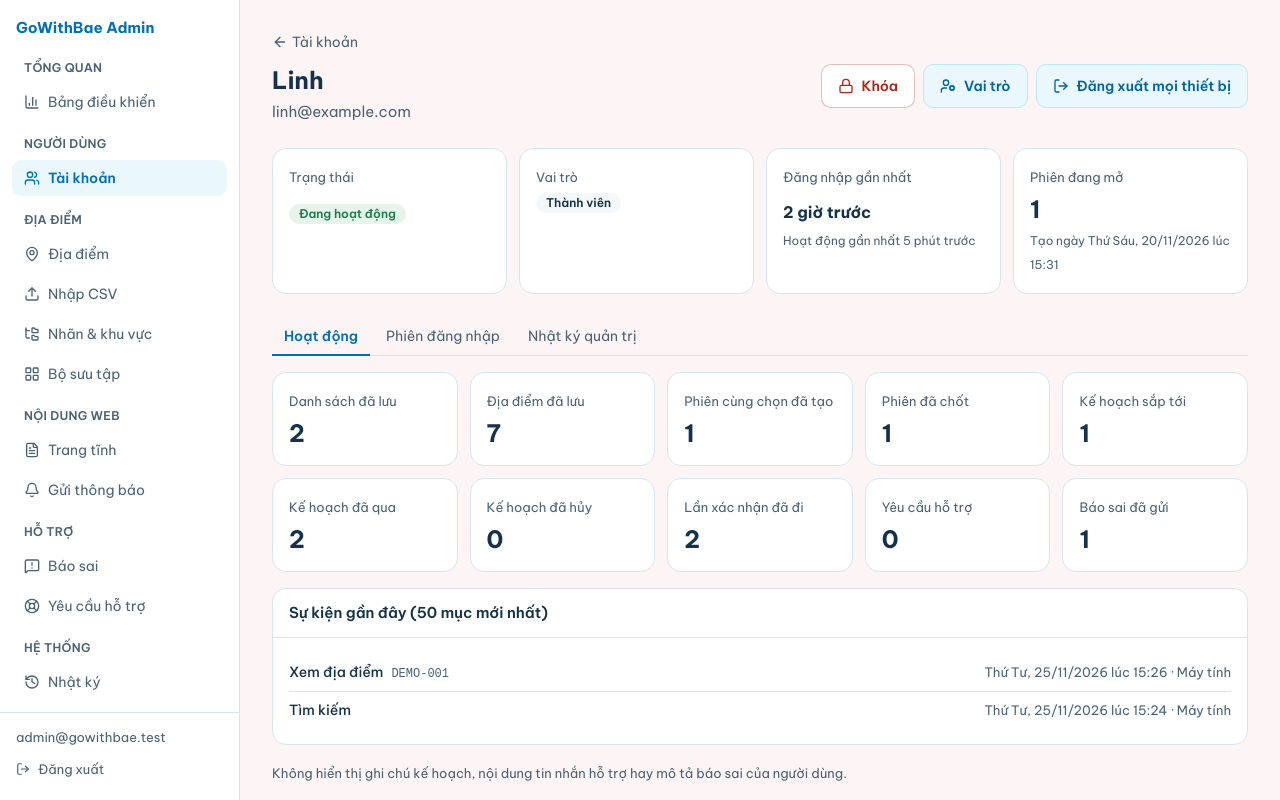
it: Quản trị tài khoản › khóa tài khoản cần lý do; xem phiên đăng nhập và nhật ký
expect the heading "Linh" is shown: met, box [272, 65, 324, 95]
expect the text "Địa điểm đã lưu" is shown: met, box [487, 393, 585, 409]
Click the button "Khóa": (868, 86) [821, 64, 915, 108]
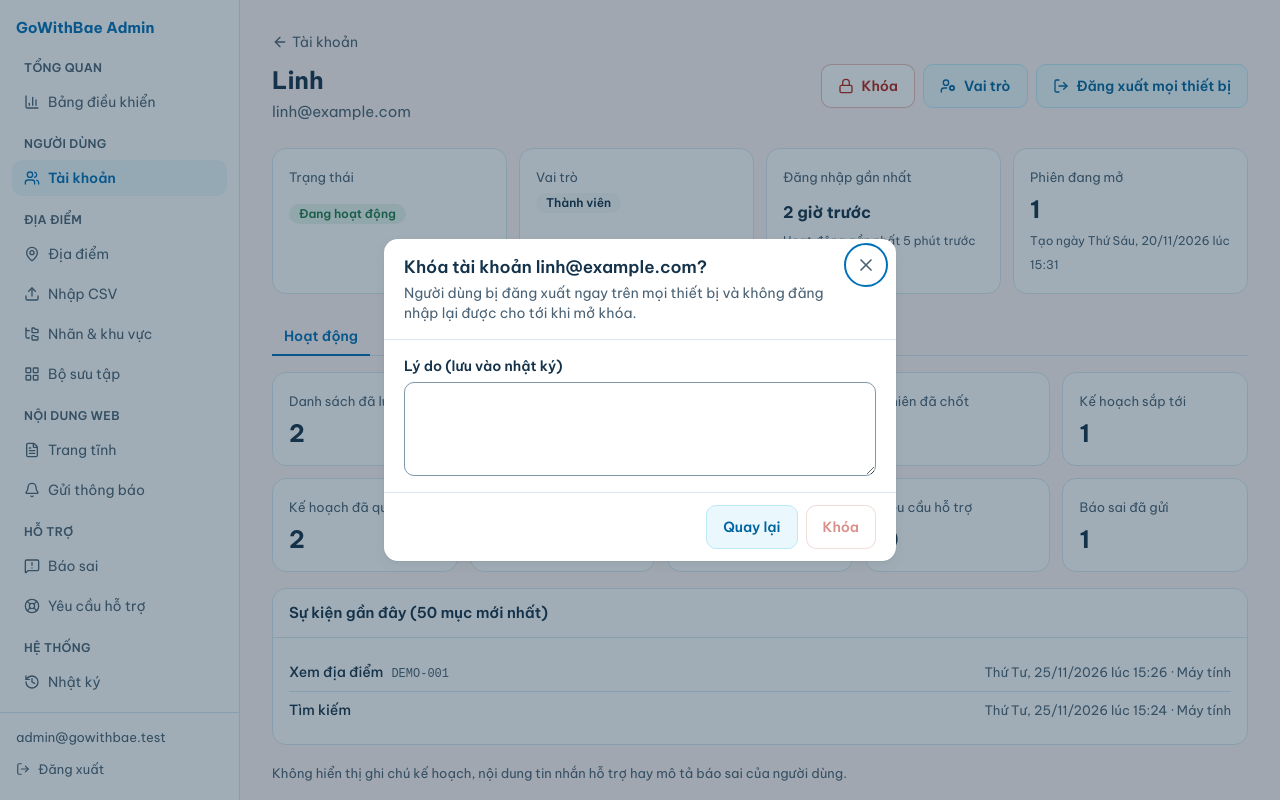
expect the button "Khóa" below "Lý do (lưu vào nhật ký)" is disabled: met, box [806, 505, 876, 549]
In the text box labelled "Lý do (lưu vào nhật ký)": (640, 429) [404, 382, 876, 476], type "Vi phạm điều khoản"
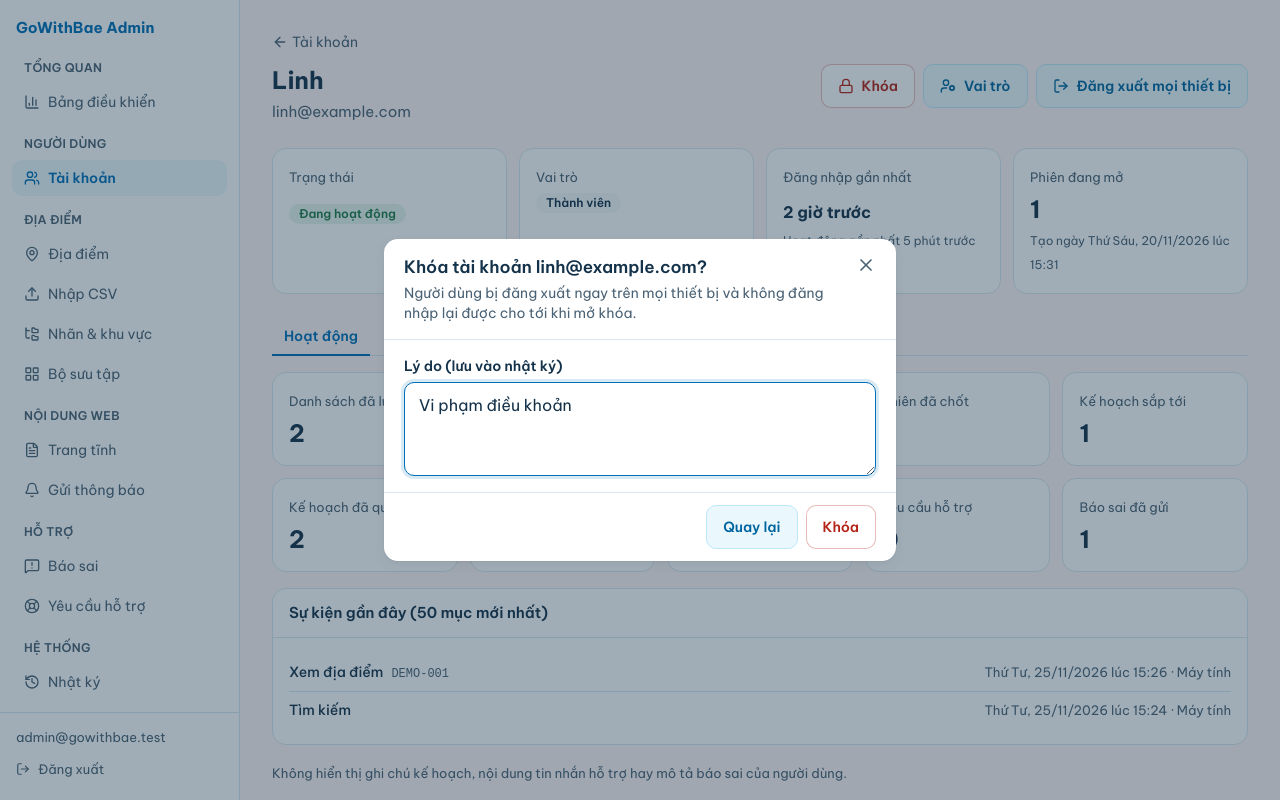
Click the button "Khóa" below "Lý do (lưu vào nhật ký)": (841, 527) [806, 505, 876, 549]
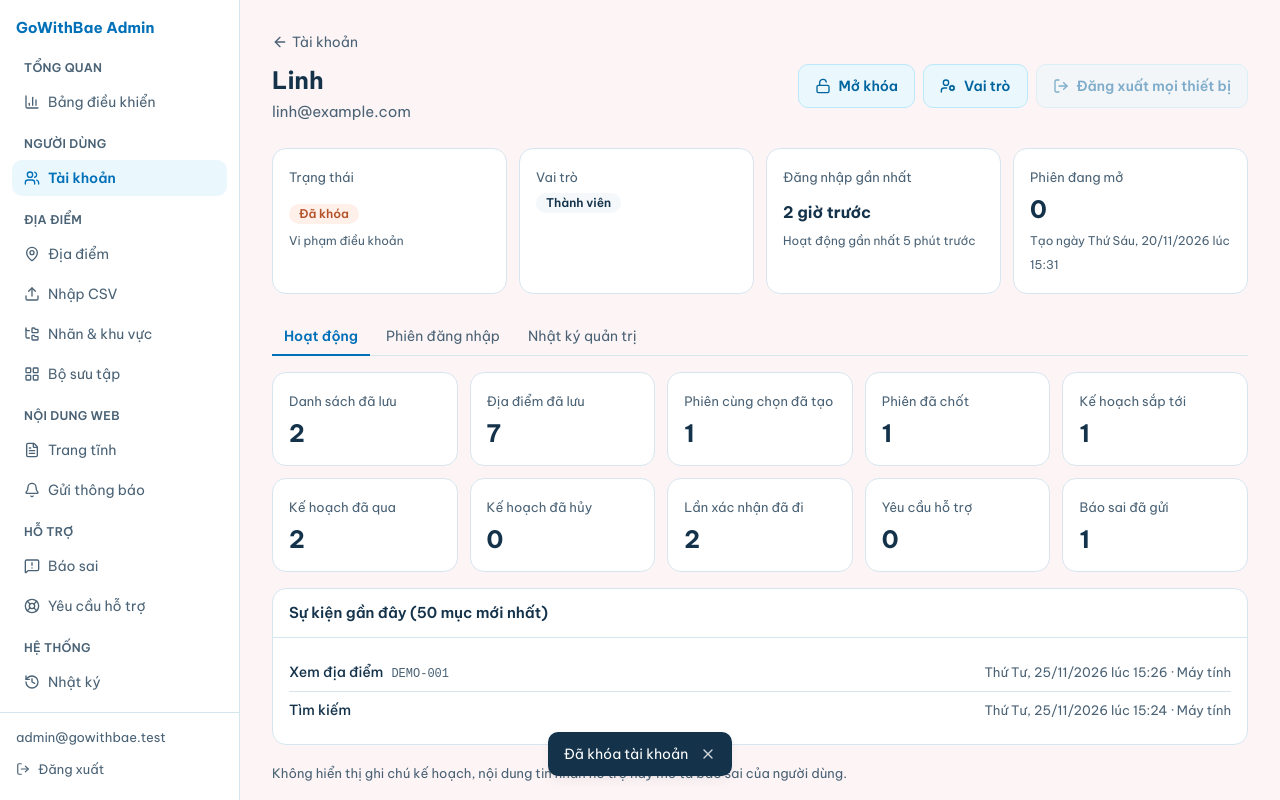
expect the button "Mở khóa" is shown: met, box [798, 64, 915, 108]
Click the tab "Phiên đăng nhập": (443, 337) [374, 318, 512, 356]
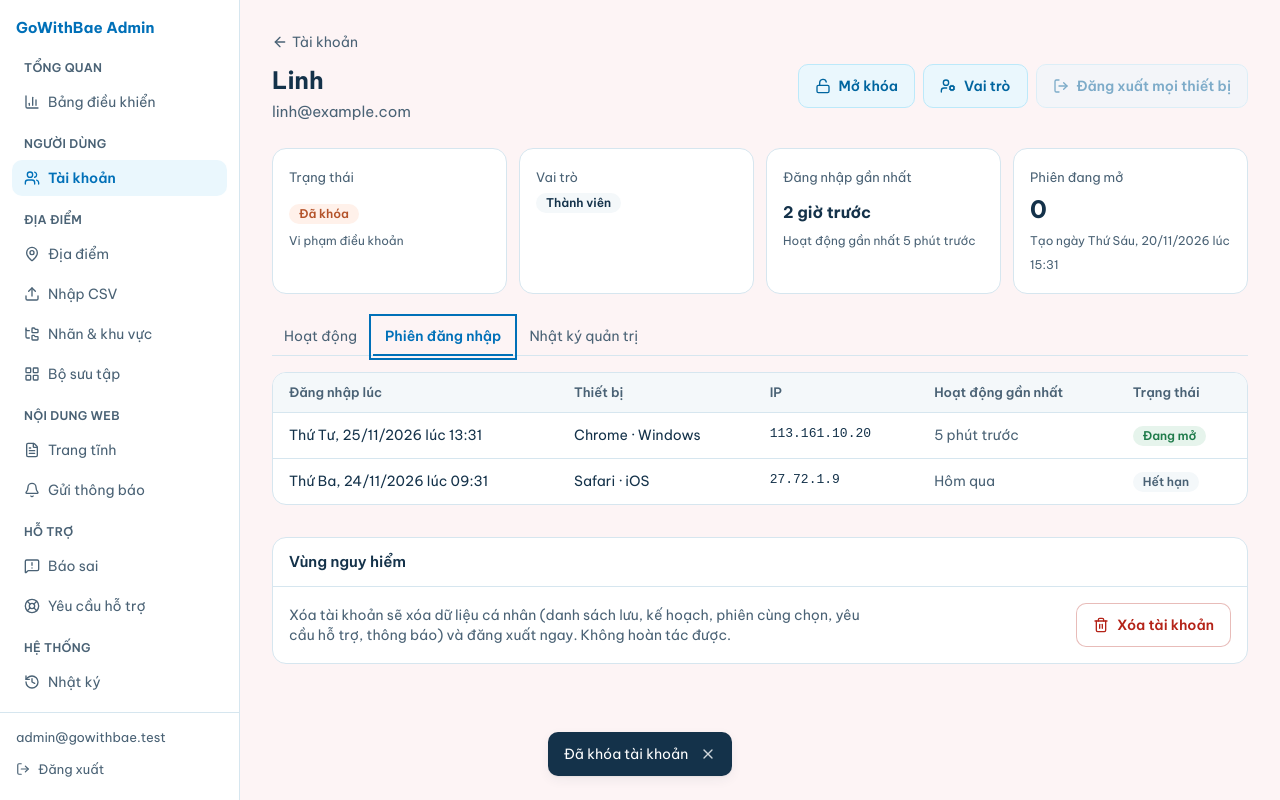
expect the text "113.161.10.20" is shown: met, box [754, 412, 918, 458]
expect the text "Chrome · Windows" is shown: met, box [558, 412, 754, 458]
Click the tab "Nhật ký quản trị": (584, 337) [517, 318, 650, 356]
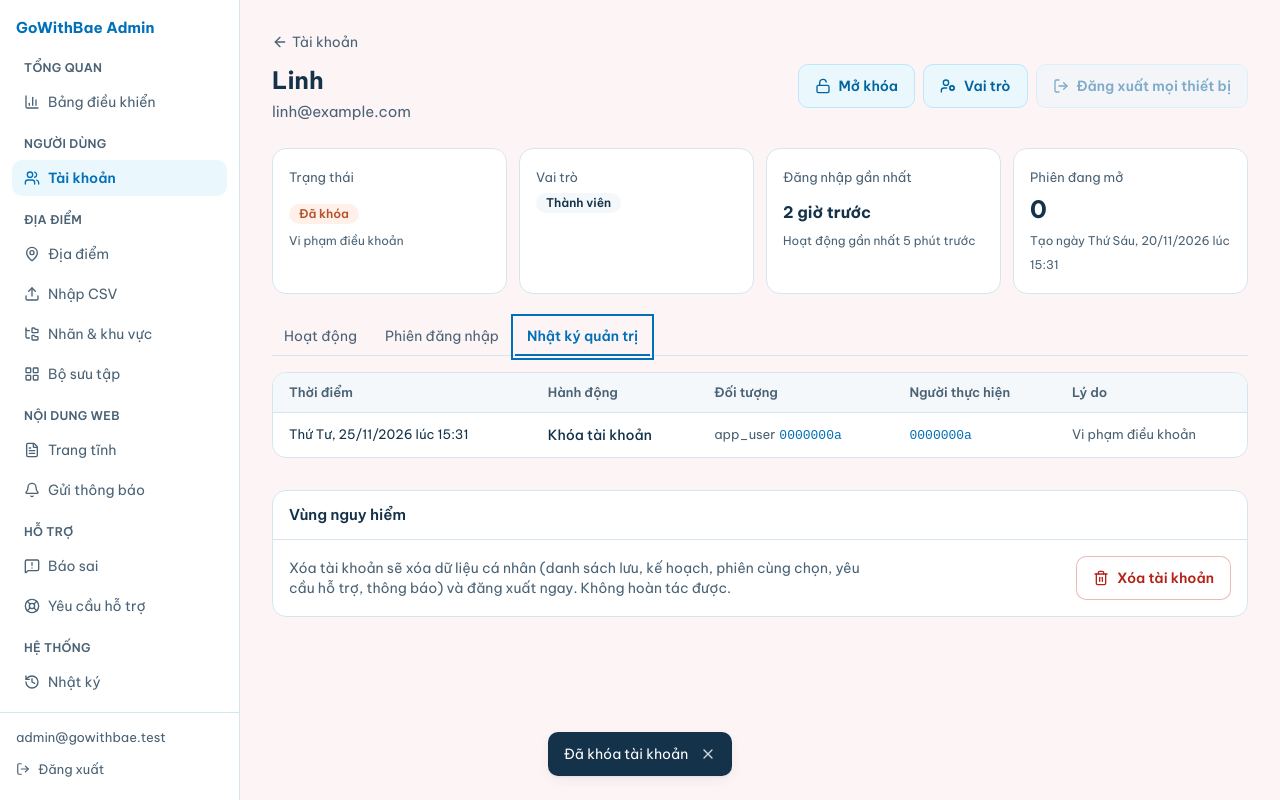
expect the text "Khóa tài khoản" is shown: met, box [548, 426, 652, 444]
expect the text "Vi phạm điều khoản" is shown: met, box [1056, 412, 1247, 457]
